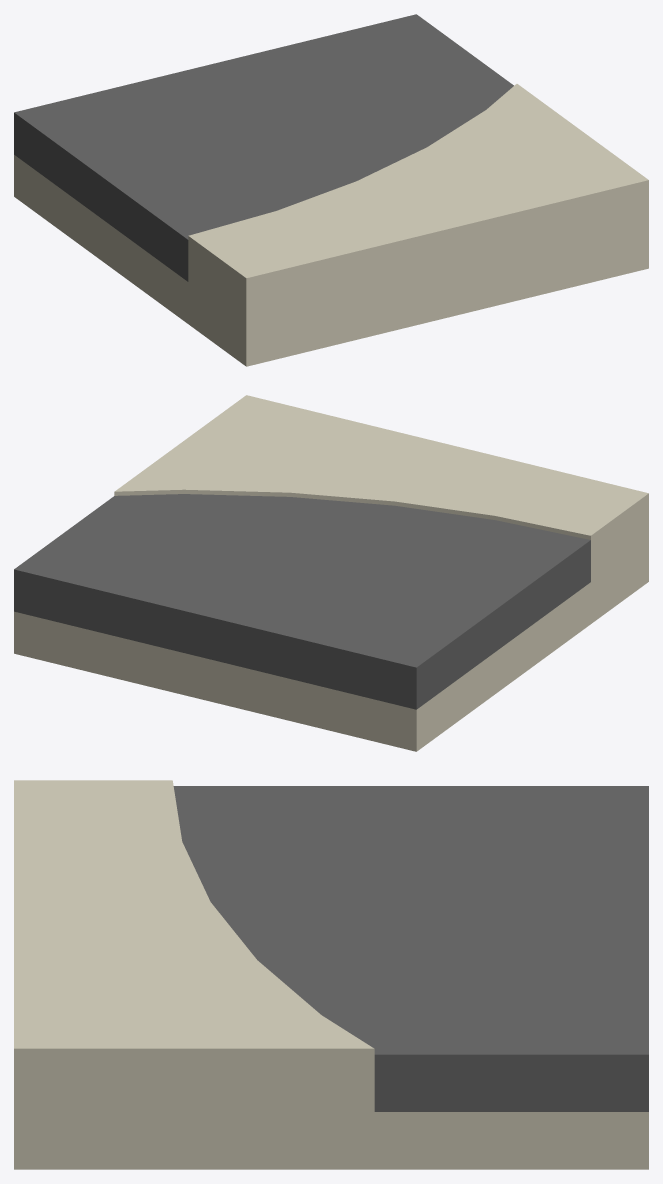
File: roadTile_074.fbx
3 views of the same model, one above another, from view 1: azimuth 30°, elevation 25°; view 2: azimuth 150°, elevation 25°; view 3: azimuth 270°, elevation 25° (orthographic). The views are drawn at different scales.
Visible parts, largest first — view 1: roadTile_074; view 2: roadTile_074; view 3: roadTile_074.
Part boxes in pixels (box(x1,y1,x2,y2)): roadTile_074: box(14, 14, 648, 366); roadTile_074: box(14, 395, 648, 751); roadTile_074: box(14, 780, 648, 1169).
Size of the model in its own units: 118 by 24.8 by 118.
